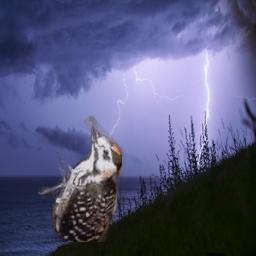Woodpecker: (38, 115, 122, 242)
